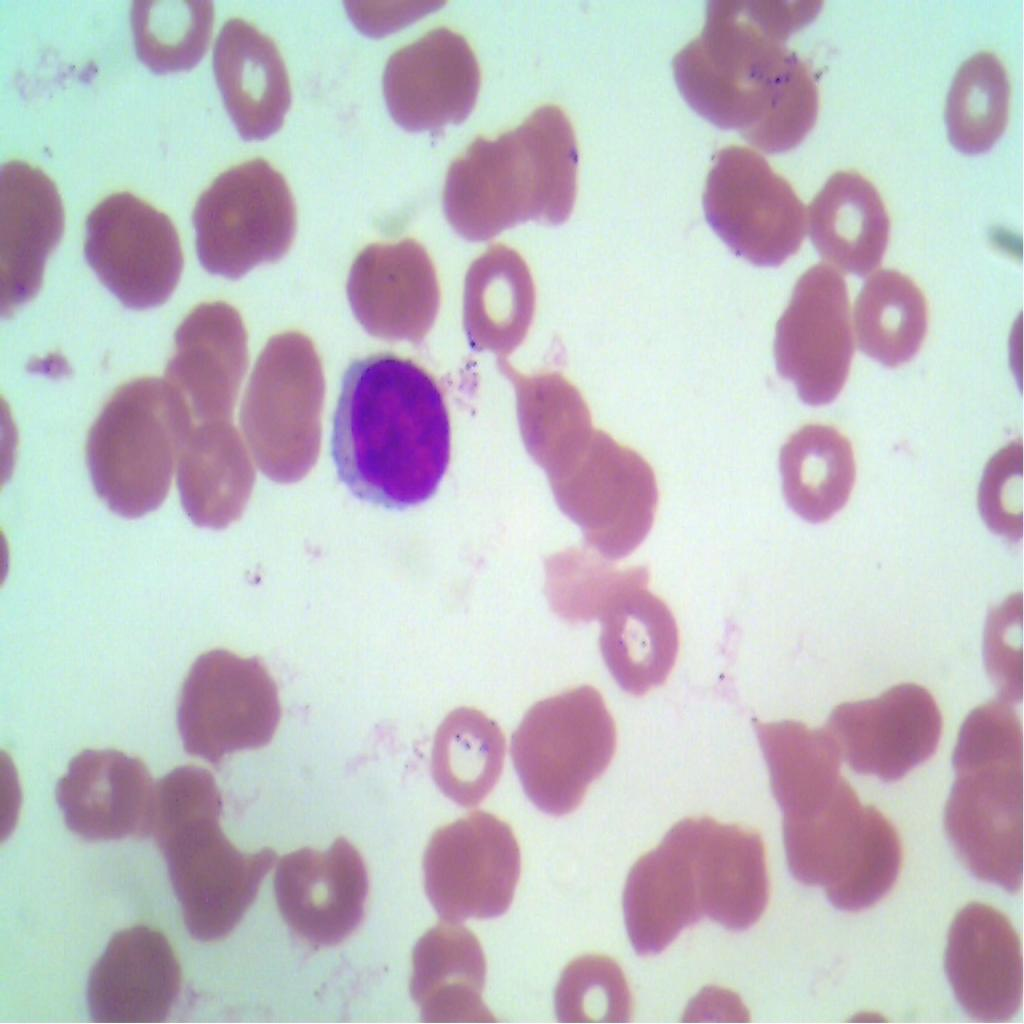Eritrosit: (189, 142, 306, 294), (148, 811, 278, 945), (83, 197, 195, 321), (46, 728, 153, 856), (344, 235, 456, 357), (832, 671, 942, 791), (203, 15, 308, 138), (700, 147, 806, 264), (368, 25, 484, 131), (496, 100, 586, 235), (934, 892, 1023, 1023), (586, 571, 683, 691), (122, 748, 226, 858), (453, 239, 546, 358), (430, 812, 526, 925), (84, 394, 173, 515), (86, 909, 179, 1023), (778, 266, 852, 402), (774, 414, 858, 532), (273, 838, 368, 941), (171, 420, 258, 530), (850, 257, 930, 376), (694, 818, 772, 939), (180, 648, 278, 744), (773, 782, 863, 884), (614, 832, 691, 950), (946, 754, 1023, 872), (534, 680, 626, 778), (109, 0, 228, 75), (938, 48, 1016, 162), (515, 367, 591, 484), (435, 132, 519, 237), (155, 341, 238, 447), (676, 21, 763, 122), (829, 808, 906, 922), (426, 701, 508, 807), (404, 914, 493, 1011), (811, 169, 894, 272), (756, 713, 838, 814), (656, 807, 726, 925), (238, 394, 323, 488), (742, 62, 822, 157), (239, 325, 324, 414), (174, 292, 251, 387), (518, 695, 582, 802), (554, 426, 626, 520), (544, 951, 635, 1023), (590, 456, 658, 552)
Limfosit: (330, 354, 456, 514)
